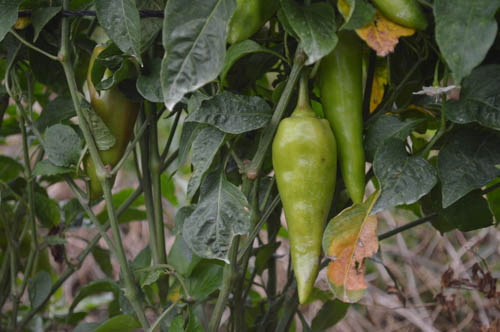ChiliPepper: (273, 117, 334, 303), (315, 27, 364, 202), (87, 44, 136, 191)
